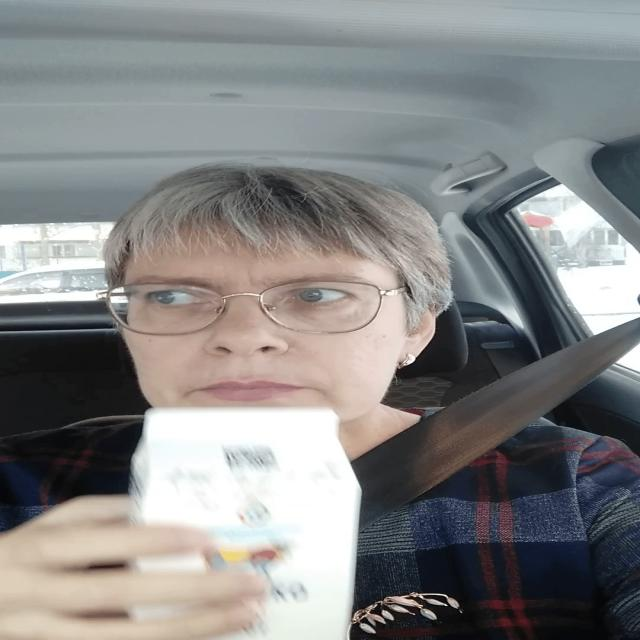3: (348, 319, 640, 517)
Seatbelt: (109, 394, 368, 640)
